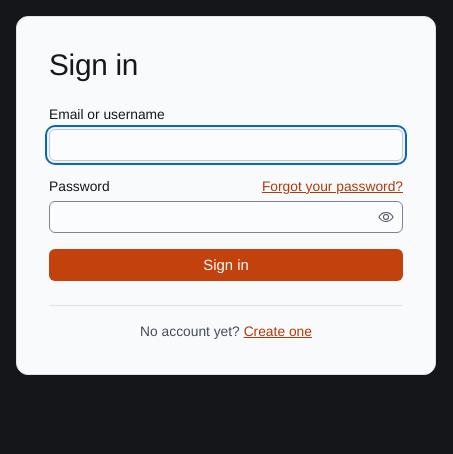
Test: LoginPage › reports rate limiting
Type "ada" into the field labelled "Email or username" at (226, 145), box [50,130,402,160]
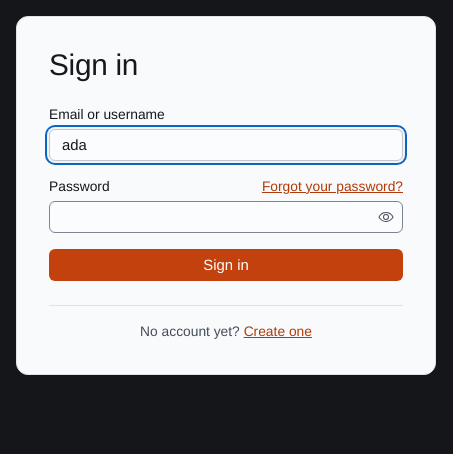
Type "guess" into the password field labelled "Password" at (212, 217), box [50,202,374,232]
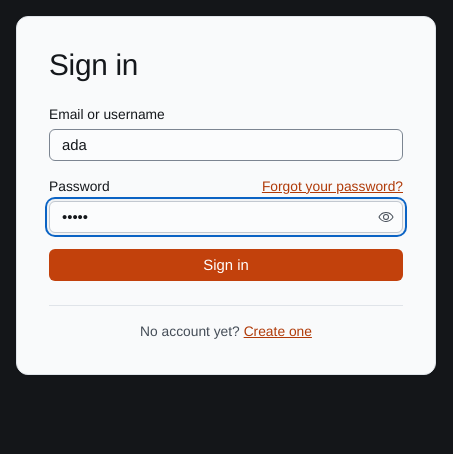
Click the button "Sign in" at (226, 265), box [49,249,403,281]
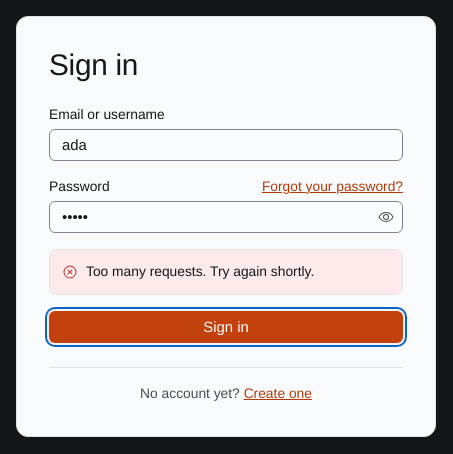
Expected: the message shows "Too many requests", [86,263,314,280]
